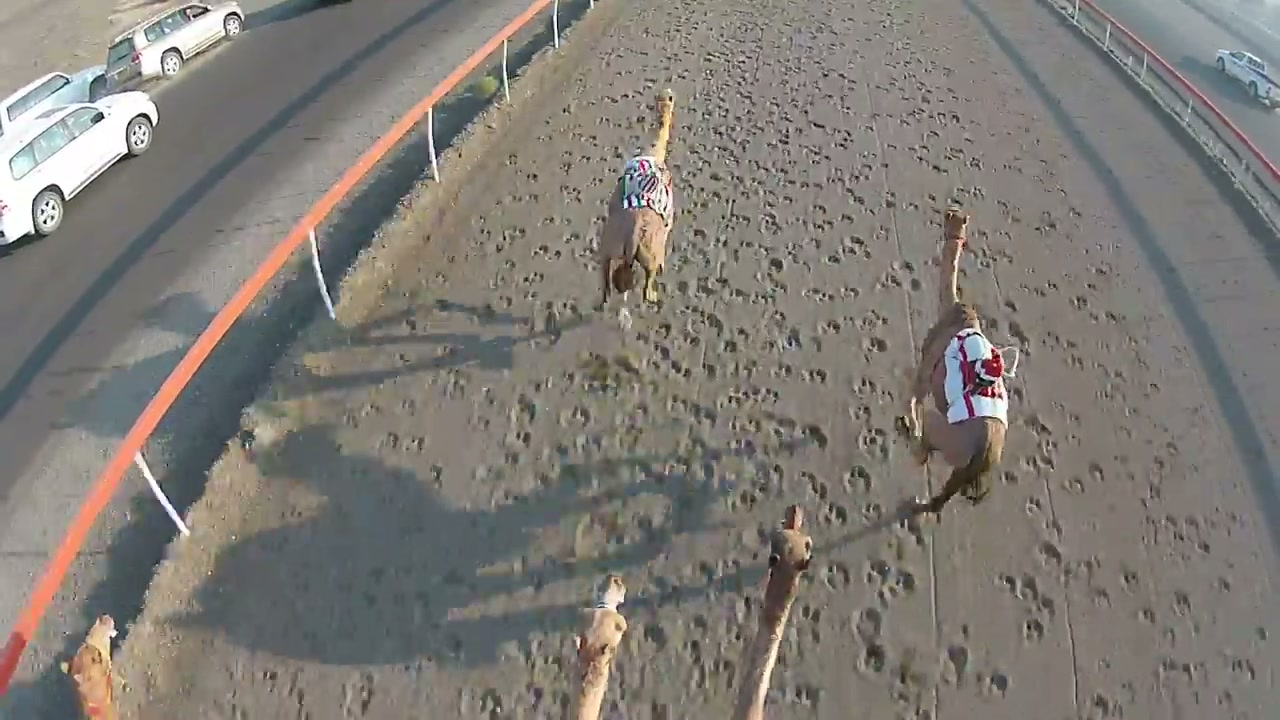animal_footprint: (260, 27, 711, 719), (637, 40, 971, 719), (894, 52, 1235, 708)
